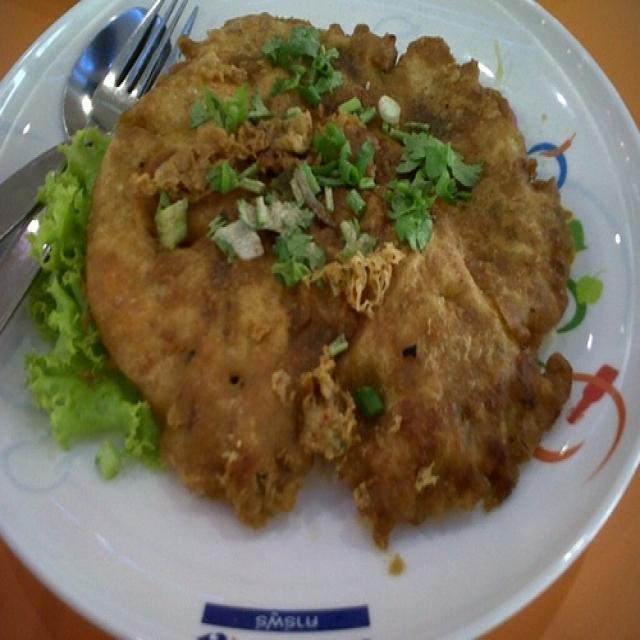炸货点心: (15, 12, 638, 628)
蛋糕甜品: (15, 12, 638, 628)
